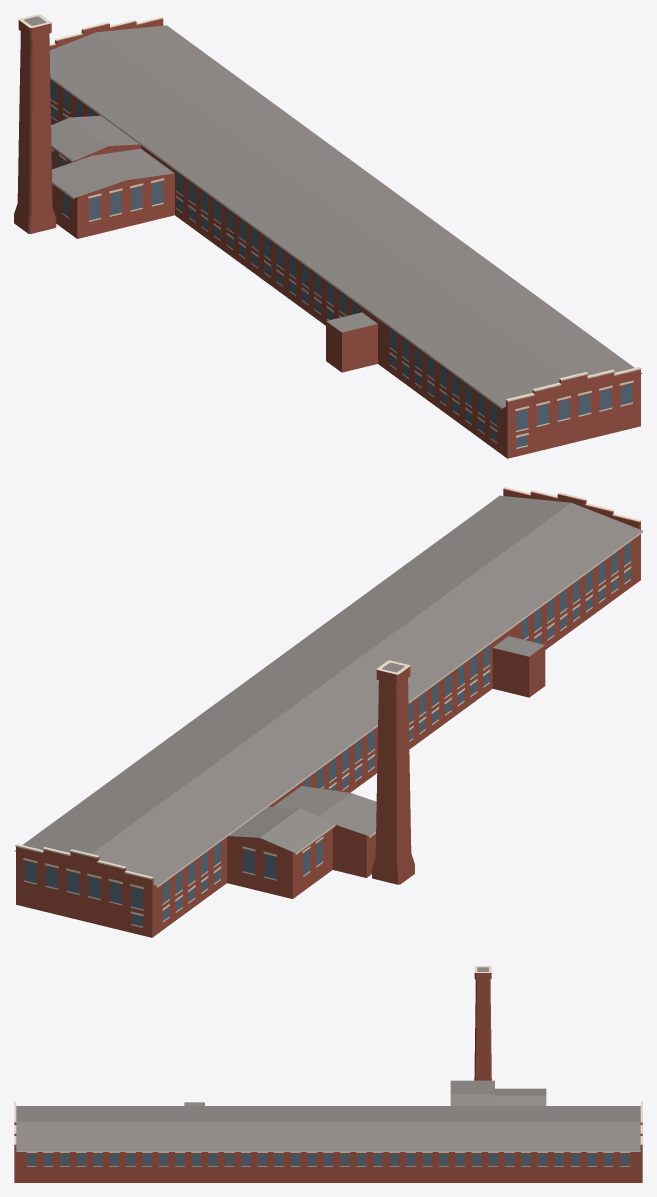
The model's file is clt-atherton-cotton-mill.glb.
3 renders of one model, top to bottom at view 1: azimuth 30°, elevation 25°; view 2: azimuth 150°, elevation 25°; view 3: azimuth 270°, elevation 25°, orthographic. The views are drawn at different scales.
Parts seen in each view (by area): view 1: Atherton Cotton Mill; view 2: Atherton Cotton Mill; view 3: Atherton Cotton Mill.
Part boxes in pixels (x1,y1,x2,y2): Atherton Cotton Mill: (14, 14, 642, 458); Atherton Cotton Mill: (14, 487, 642, 937); Atherton Cotton Mill: (14, 966, 642, 1182).
Bounding box in the file's own units: 45.8 × 33.6 × 143.
